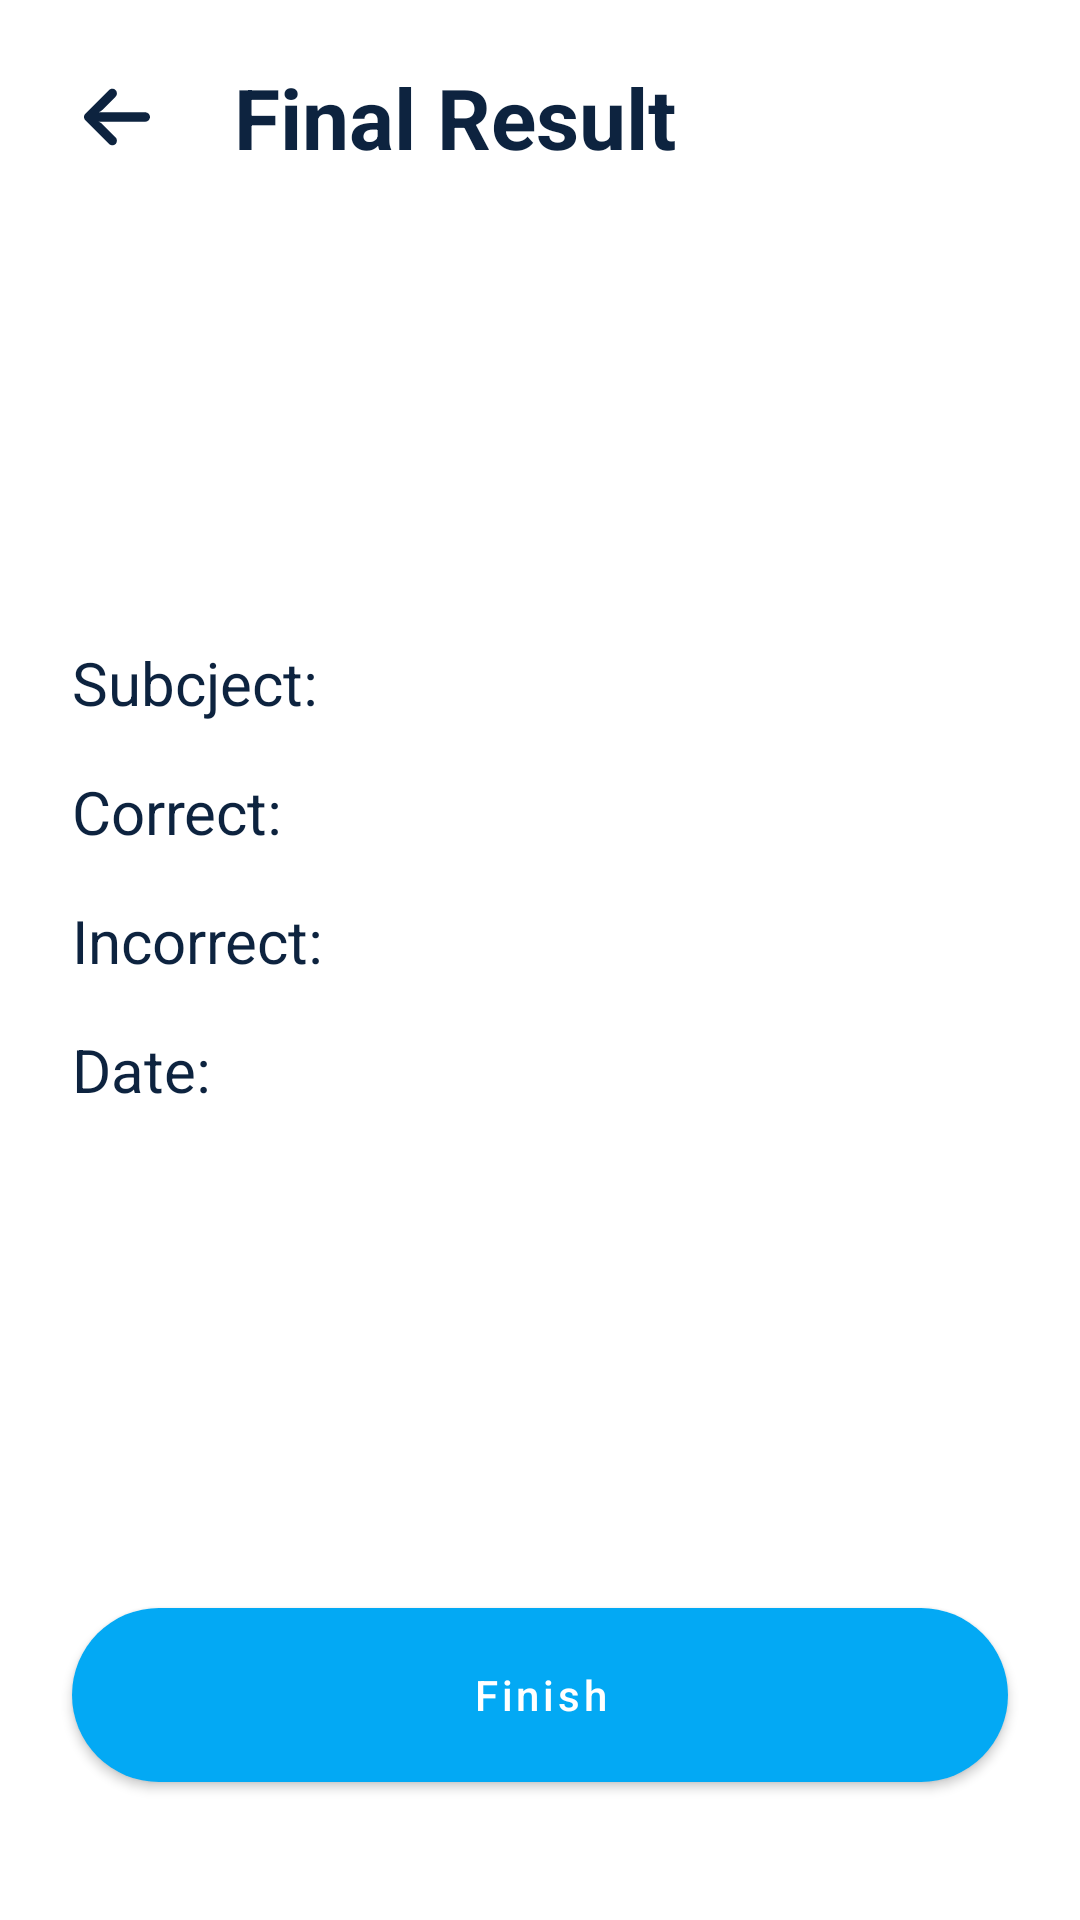

Named icons in this screenshot (1080px×1920px) and their centers, point (x, y):
arrow: point (117, 117)
